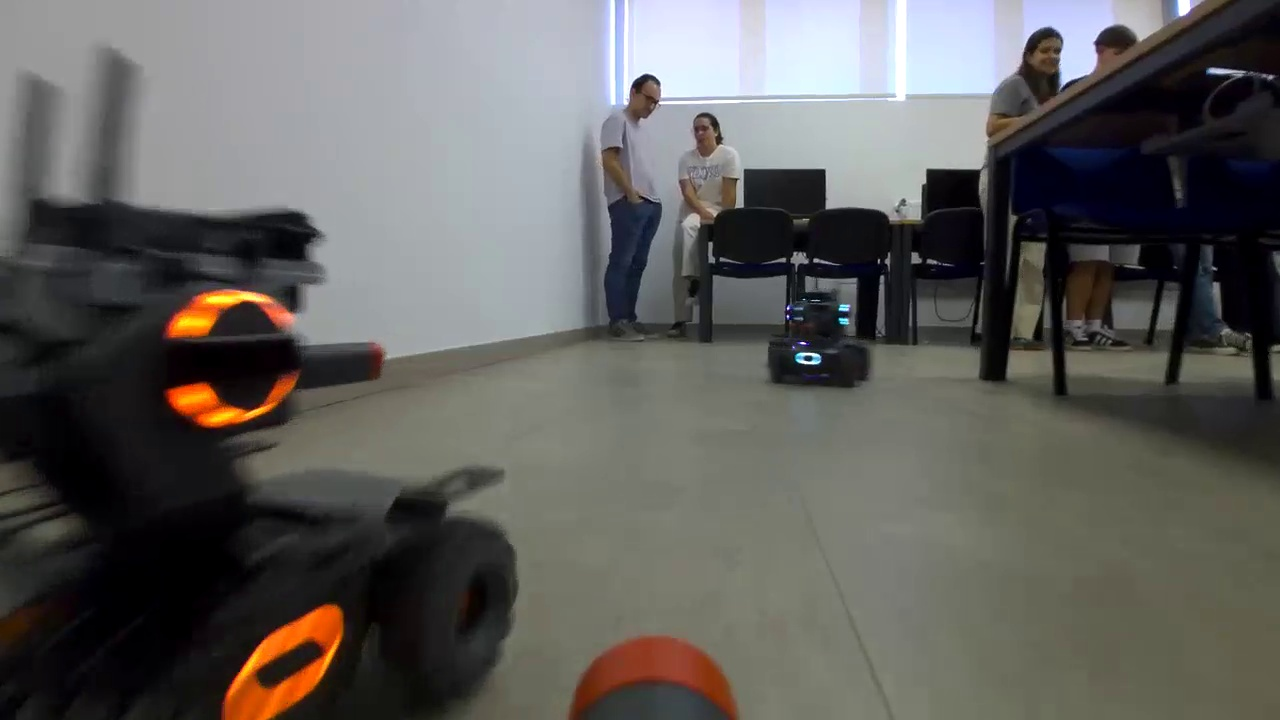robot: (5, 215, 530, 720), (758, 297, 873, 397)
